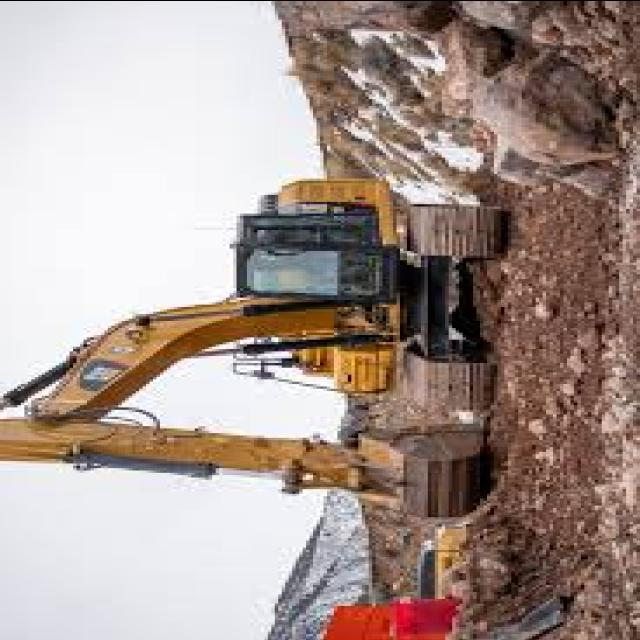excavator: (0, 168, 511, 521)
